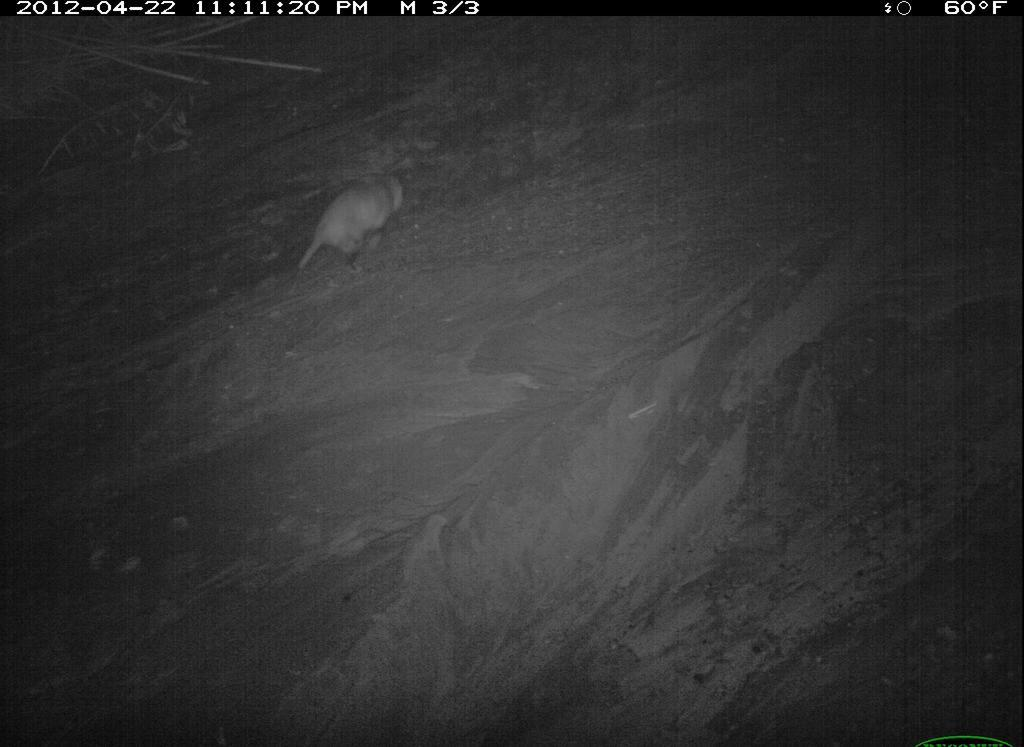opossum: (575, 342, 822, 592)
